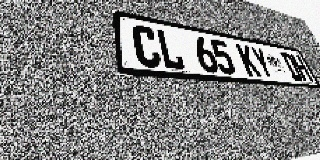5: (209, 39, 238, 75)
6: (191, 35, 220, 74)
C: (131, 24, 163, 69)
D: (279, 52, 304, 81)
H: (290, 54, 313, 82)
K: (235, 43, 262, 77)
L: (155, 28, 186, 71)
Y: (249, 46, 275, 78)
